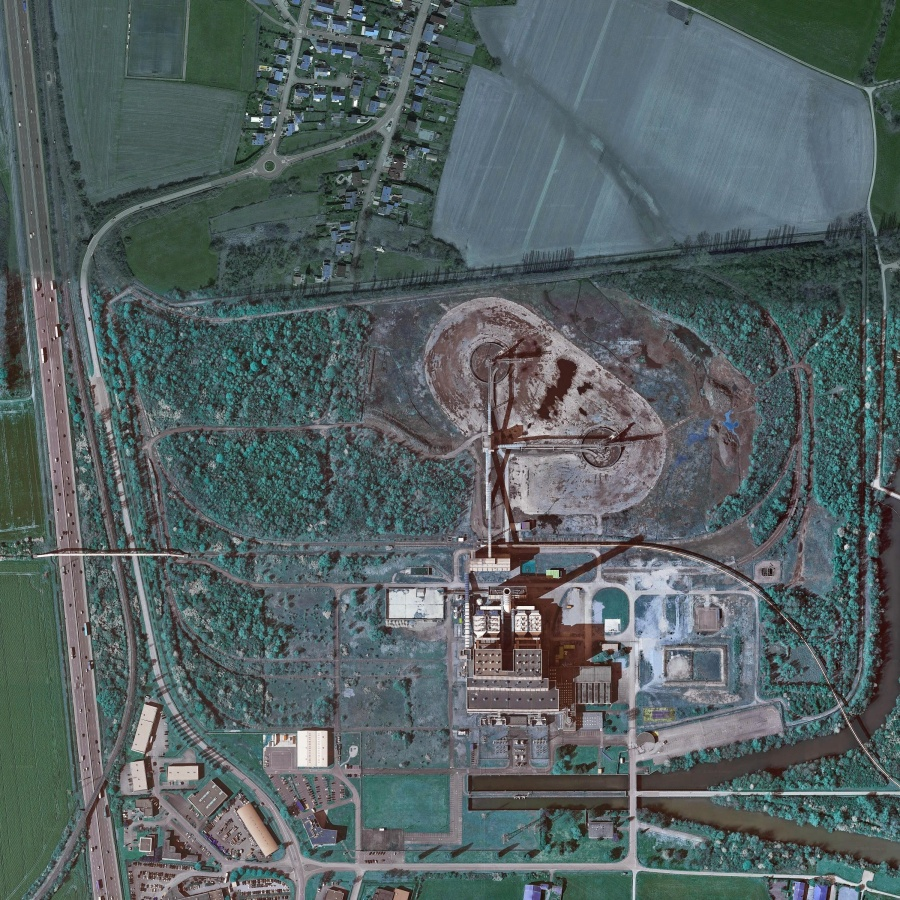PowerPlant: (392, 297, 665, 723)
